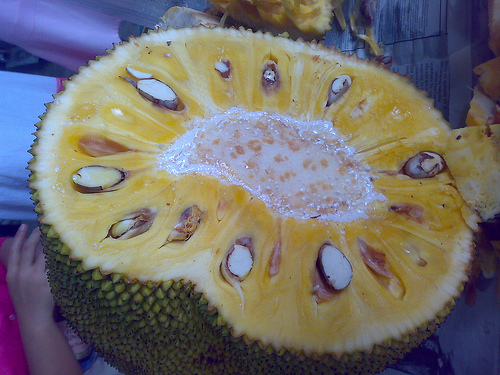jackfruit: (24, 22, 482, 374)
